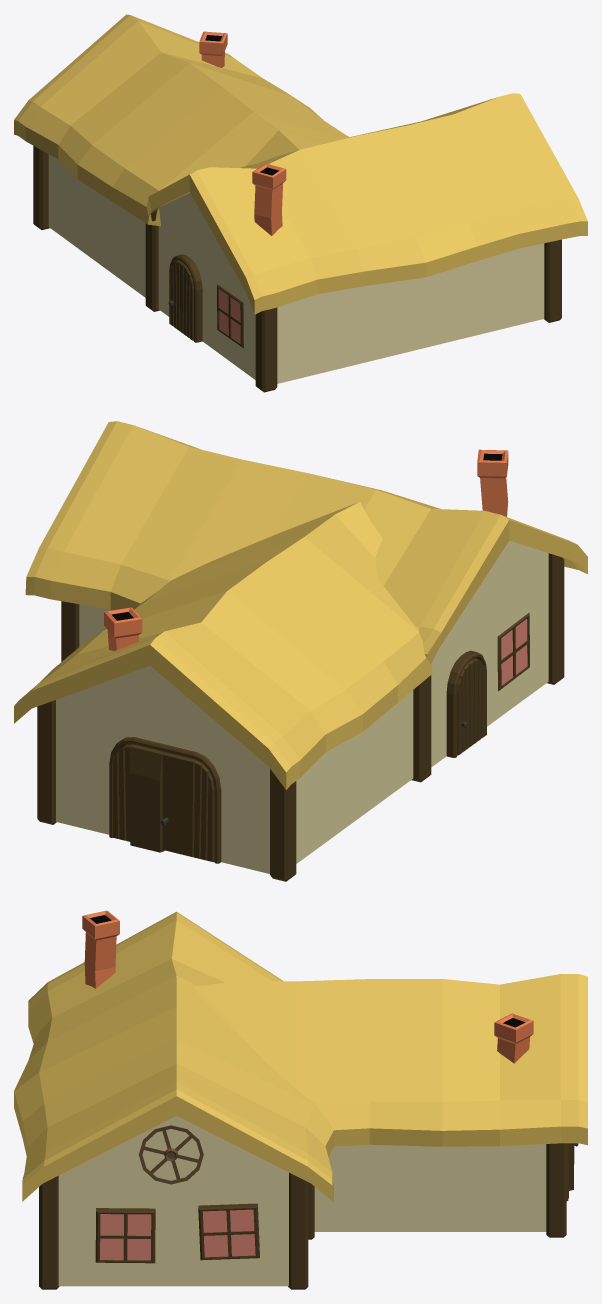
File: SM_House_Farm_02.fbx
3 views of the same model, one above another, from view 1: azimuth 30°, elevation 25°; view 2: azimuth 150°, elevation 25°; view 3: azimuth 270°, elevation 25° (orthographic). The views are drawn at different scales.
Visible parts, largest first — view 1: Dach.003, Dach.004, House Body.003, House Body.004, Cube.001, Wood Beam.012, Door.003, Wood Beam.013, Wood Beam.016, SM_House_Farm_02, Doorframe.003, Cube.002 (+2 smaller); view 2: Dach.004, Dach.003, House Body.004, House Body.003, Door.005, Wood Beam.016, Door.003, Wood Beam.017, Wood Beam.012, Doorframe.005, SM_House_Farm_02, Cube.001 (+5 smaller); view 3: Dach.004, Dach.003, House Body.003, House Body.004, Cube.001, Wood Beam.014, Wood Beam.013, Window Glass.016, Window Glass.015, Wood Beam.017, Cube.002, Window.016 (+2 smaller).
Boxes of the visible parts, x1,y1,x2,y2 form: Dach.003: (147, 93, 587, 314); Dach.004: (14, 14, 348, 226); House Body.003: (158, 193, 544, 383); House Body.004: (48, 154, 145, 297); Cube.001: (252, 163, 286, 235); Wood Beam.012: (255, 307, 277, 392); Door.003: (168, 260, 193, 340); Wood Beam.013: (544, 239, 561, 322); Wood Beam.016: (33, 146, 49, 229); SM_House_Farm_02: (145, 209, 159, 311); Doorframe.003: (169, 254, 202, 342); Cube.002: (199, 31, 227, 67); Dach.004: (14, 502, 432, 789); Dach.003: (25, 421, 587, 664); House Body.004: (56, 666, 413, 873); House Body.003: (79, 540, 548, 767); Door.005: (113, 744, 214, 862); Wood Beam.016: (270, 769, 296, 881); Door.003: (457, 658, 485, 755); Wood Beam.017: (37, 700, 56, 824); Wood Beam.012: (547, 553, 564, 684); Doorframe.005: (109, 737, 221, 863); SM_House_Farm_02: (411, 675, 431, 782); Cube.001: (477, 449, 508, 516); Dach.004: (192, 974, 587, 1146); Dach.003: (14, 911, 333, 1201); House Body.003: (58, 1116, 288, 1286); House Body.004: (314, 1144, 546, 1231); Cube.001: (82, 910, 119, 988); Wood Beam.014: (288, 1172, 308, 1289); Wood Beam.013: (39, 1175, 59, 1289); Window Glass.016: (202, 1209, 255, 1257); Window Glass.015: (100, 1214, 151, 1260); Wood Beam.017: (546, 1143, 566, 1237); Cube.002: (494, 1013, 533, 1063); Window.016: (198, 1203, 259, 1260).
Size of the model in its own units: 679 by 385 by 892.
